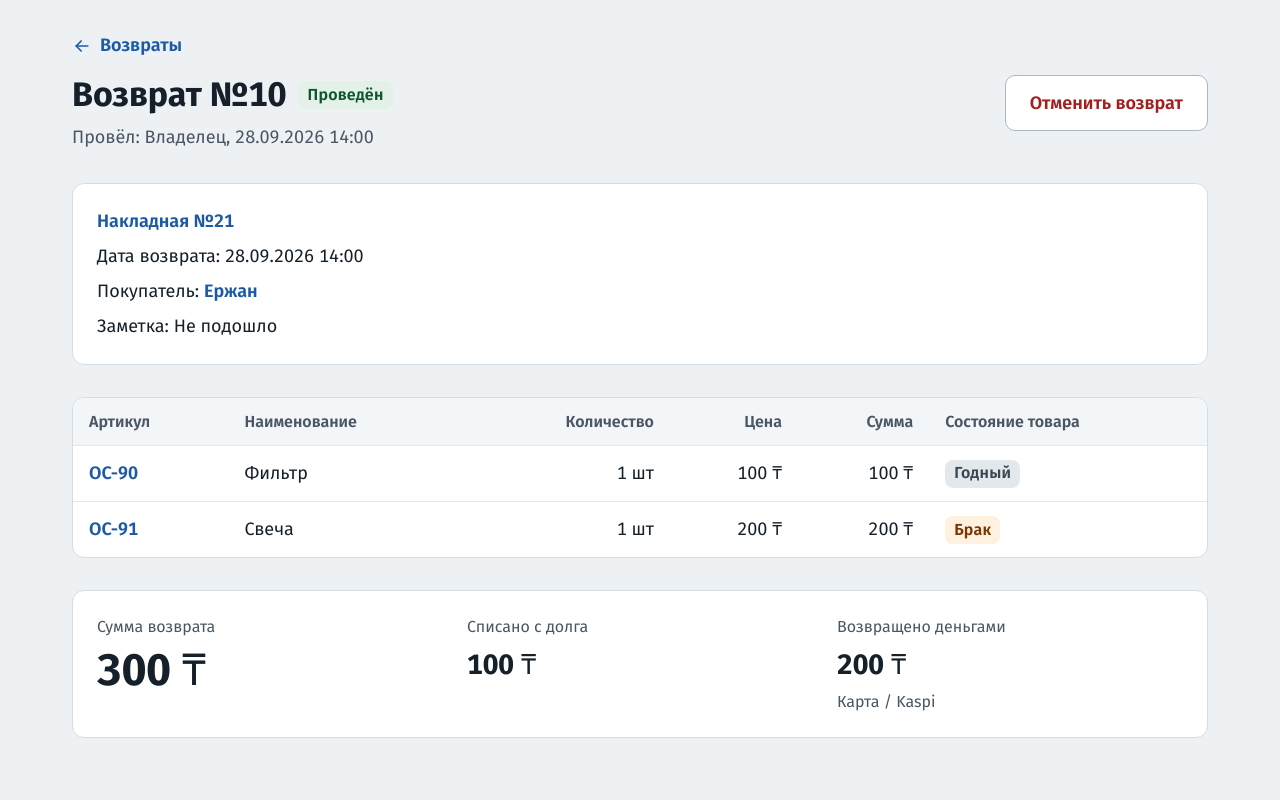
Test case: cancels with a quick reason and updates the card
Click the button "Отменить возврат": [1106, 103] box [1005,75,1208,131]
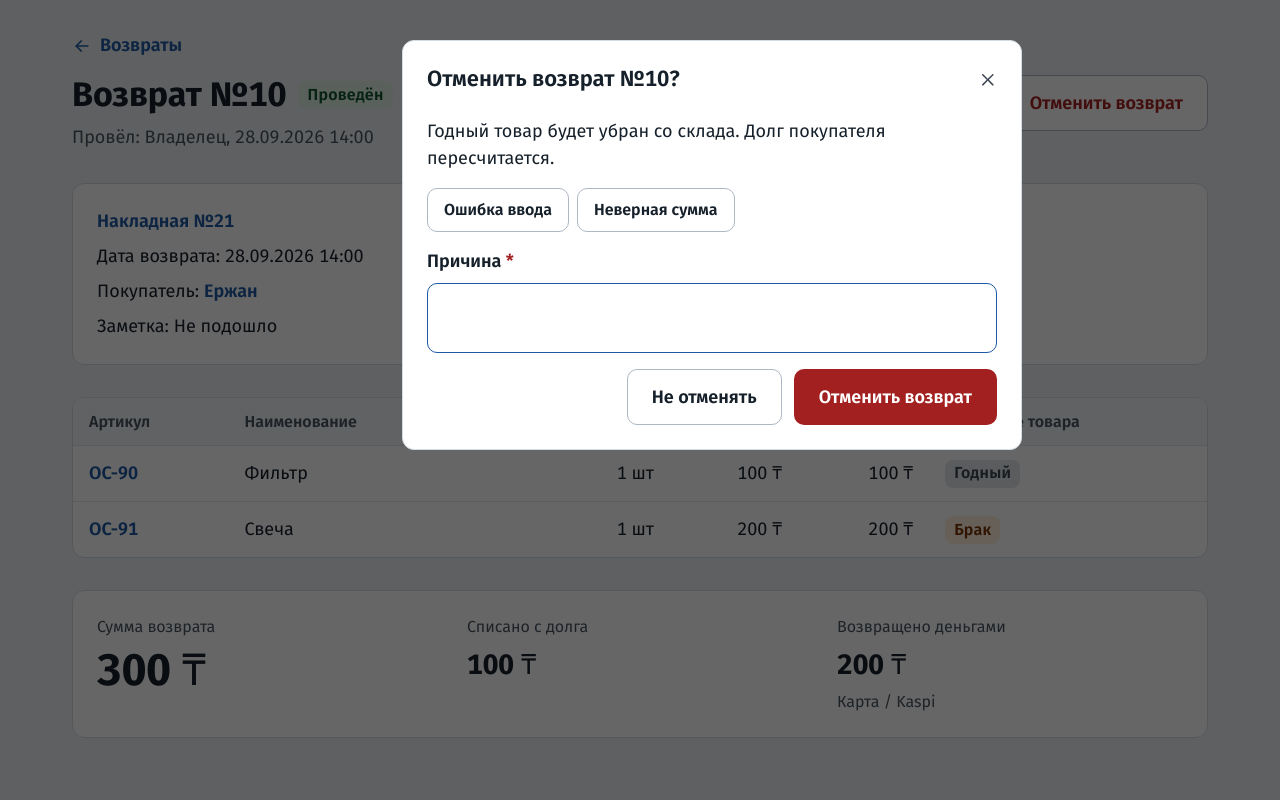
Click the button "Неверная сумма": [656, 210] box [577,188,735,232]
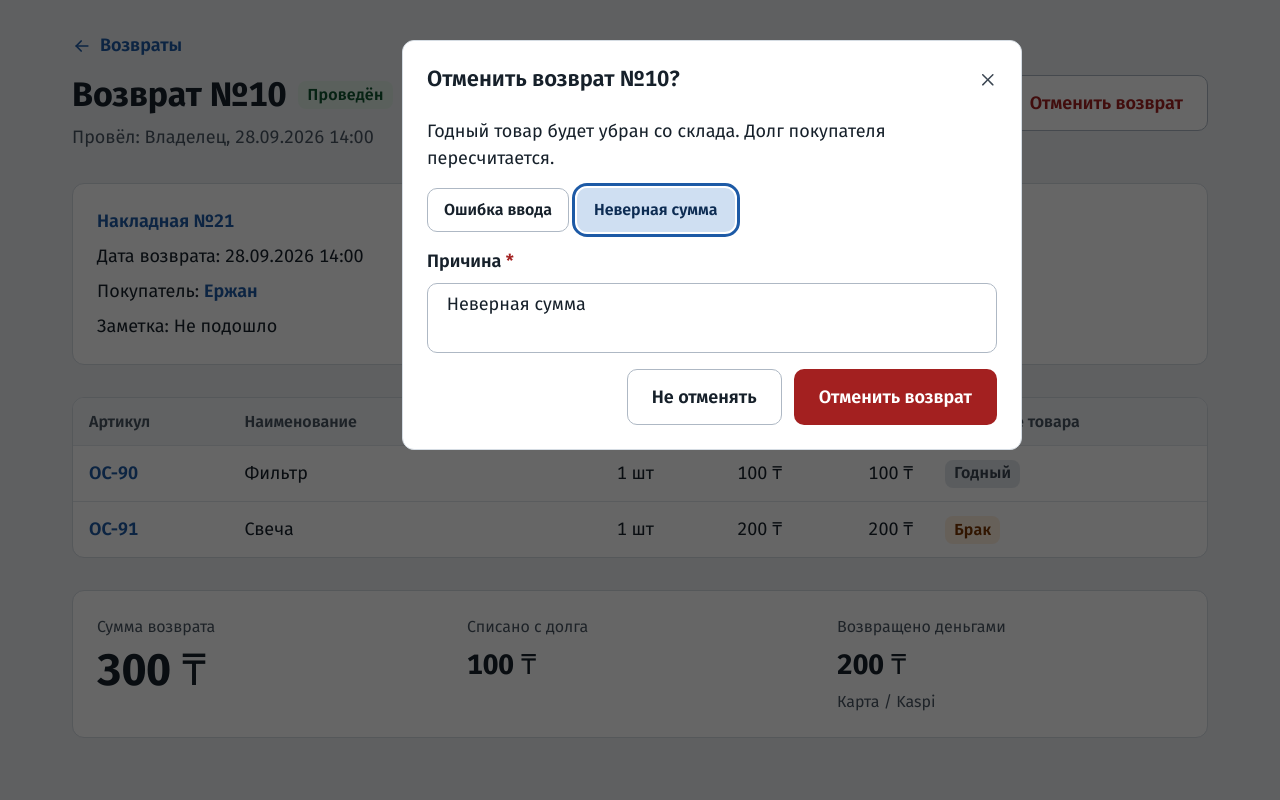
Click the button "Отменить возврат": [895, 397] box [794,369,997,425]
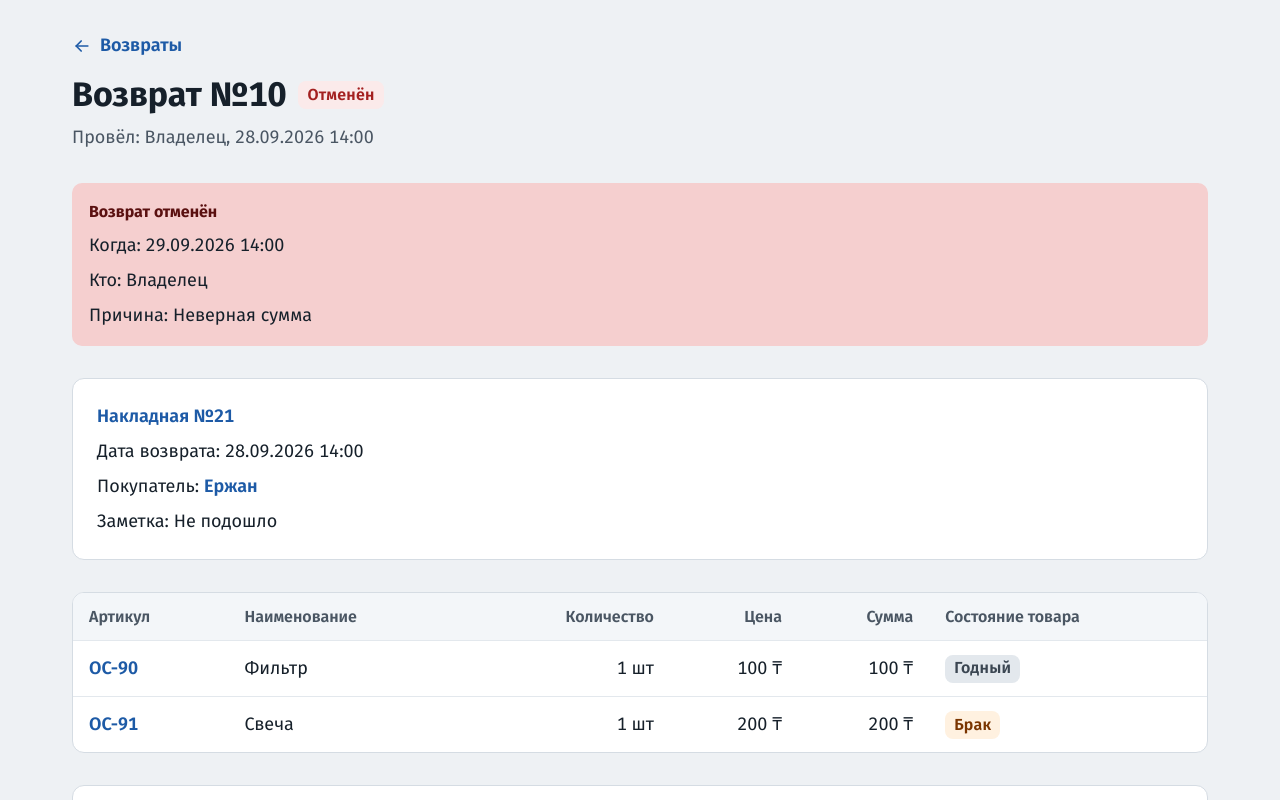
Check: the text "Возврат отменён" is shown, box [89,200,217,224]
Check: the button "Отменить возврат" is gone
